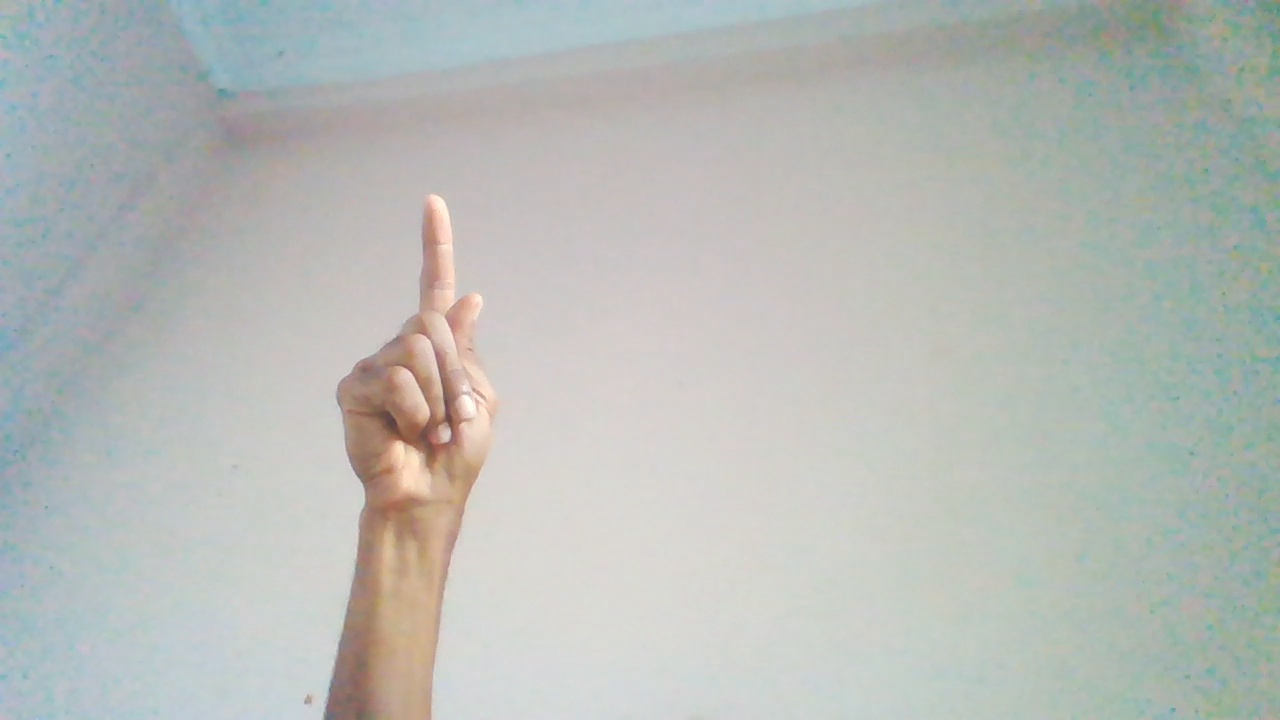ne: (337, 196, 498, 606)
